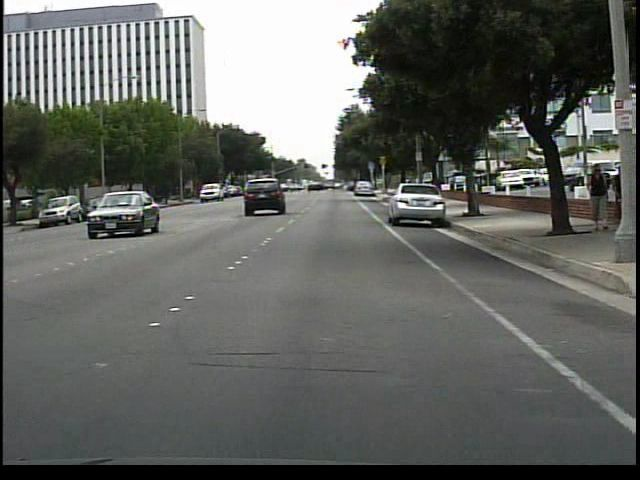person: (581, 158, 608, 235), (609, 160, 629, 231)
